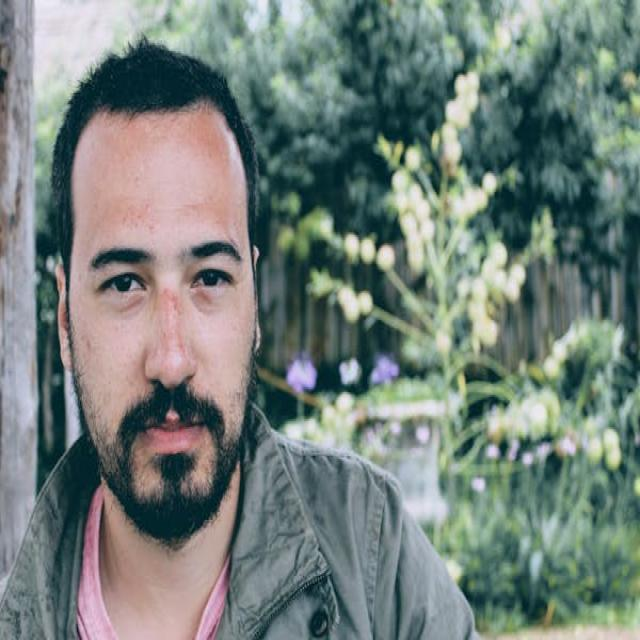no_mask: (61, 96, 268, 534)
